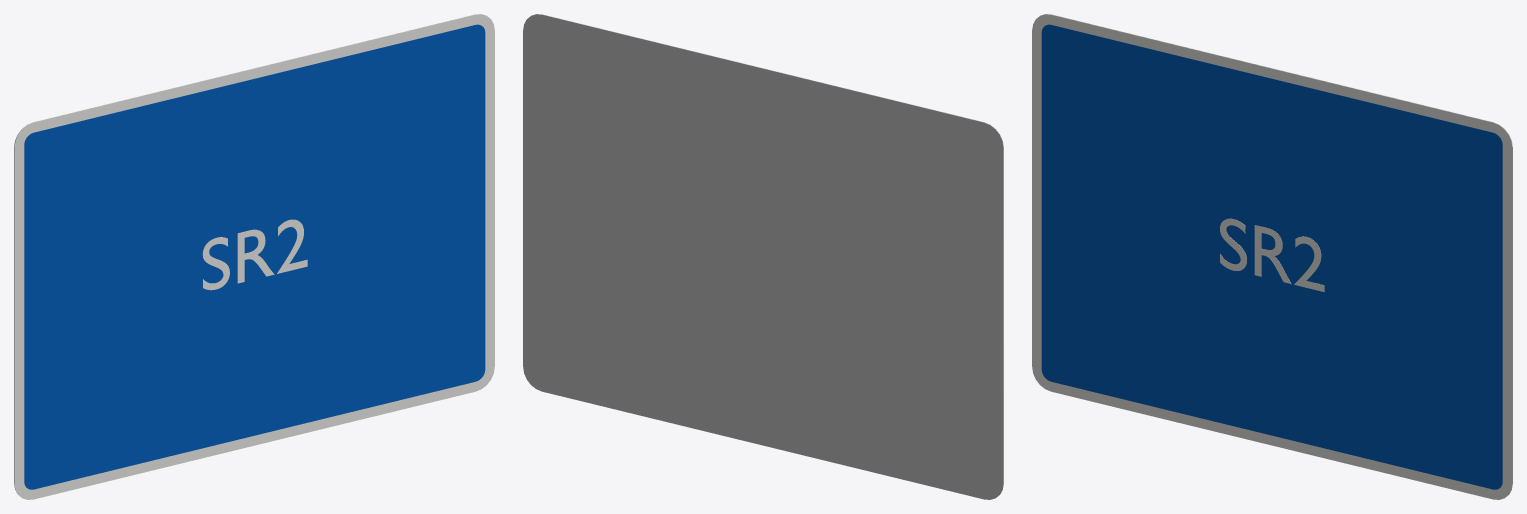
The picture shows the model from 3 angles, left to right: view 1: azimuth 30°, elevation 25°; view 2: azimuth 150°, elevation 25°; view 3: azimuth 330°, elevation 25°; orthographic projection.
Visible parts, largest first — view 1: SR2_fond01, SR2_cadre00, SR2_txt02, SR2_dos; view 2: SR2_dos; view 3: SR2_fond01, SR2_cadre00, SR2_txt02, SR2_dos.
Part boxes in pixels (x1,y1,x2,y2): SR2_fond01: [24, 24, 485, 489]; SR2_cadre00: [14, 14, 494, 499]; SR2_txt02: [202, 219, 307, 290]; SR2_dos: [14, 14, 483, 493]; SR2_dos: [523, 14, 1003, 499]; SR2_fond01: [1041, 24, 1502, 489]; SR2_cadre00: [1032, 14, 1512, 499]; SR2_txt02: [1220, 218, 1324, 291]; SR2_dos: [1043, 14, 1512, 493].
Bounding box in the file's own units: 1 × 0.75 × 0.0025.
